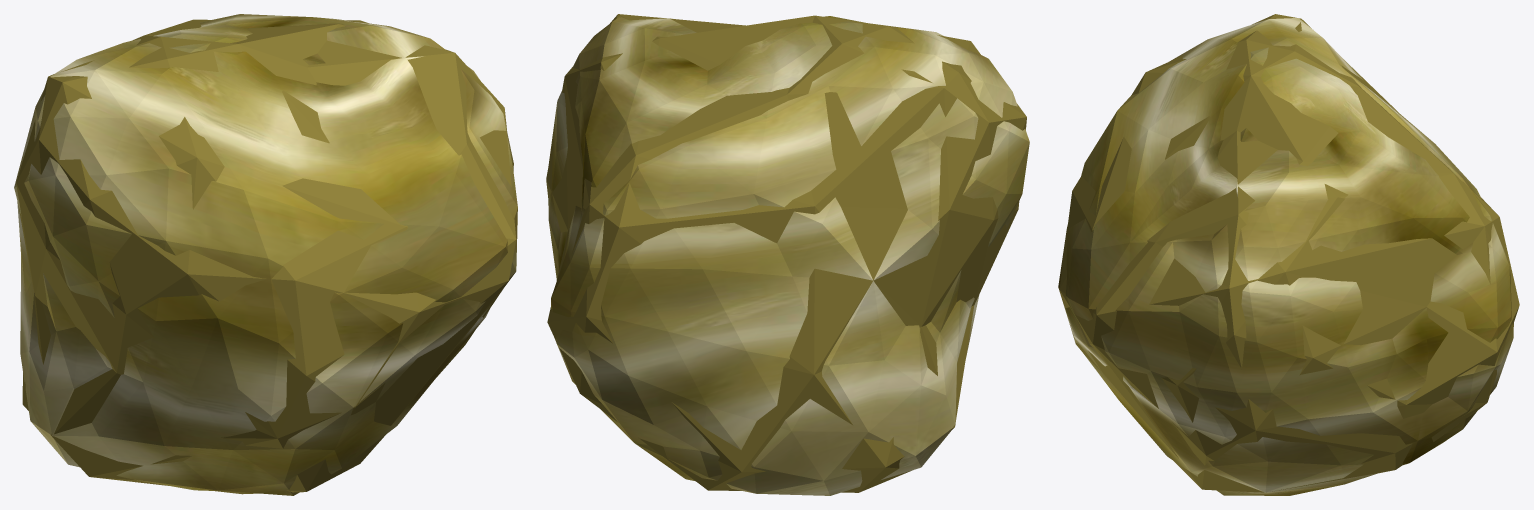
Rendered from Rock02.fbx.
3 views of the same model, side by side, from view 1: azimuth 30°, elevation 25°; view 2: azimuth 150°, elevation 25°; view 3: azimuth 270°, elevation 25° (orthographic). The views are drawn at different scales.
Parts seen in each view (by area): view 1: rock01#2, rock01#3; view 2: rock01#2, rock01#3; view 3: rock01#2, rock01#3.
Boxes of the visible parts, x1,y1,x2,y2 form: rock01#2: (14, 14, 517, 495); rock01#3: (16, 19, 516, 494); rock01#2: (548, 16, 1029, 495); rock01#3: (546, 14, 1026, 492); rock01#2: (1058, 18, 1513, 495); rock01#3: (1059, 14, 1519, 492).
Bounding box in the file's own units: 2.85 × 2.76 × 2.84.
Materials: 1 (1 with a texture image).
